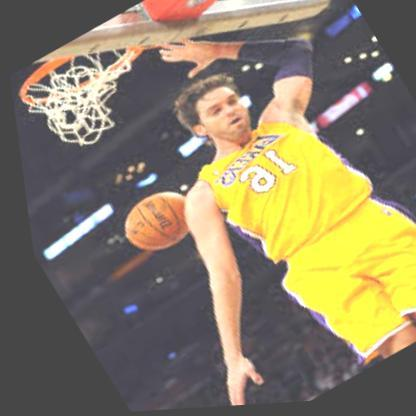basketball: (105, 184, 198, 264)
rim: (4, 20, 174, 164)
